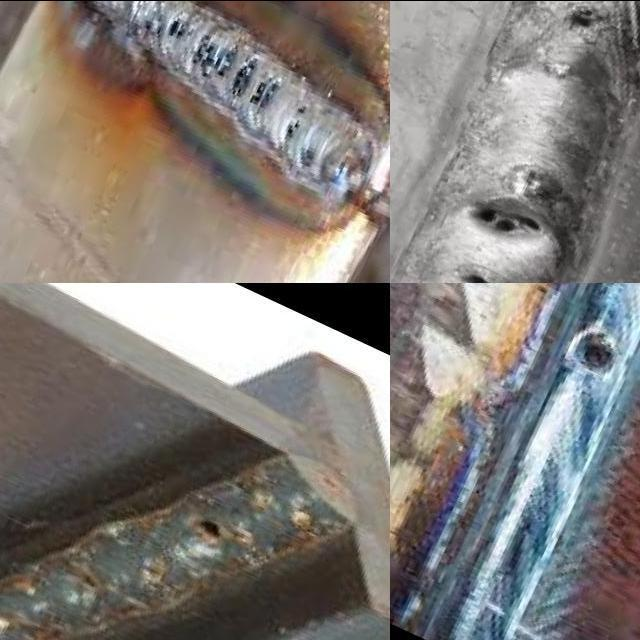defect: (464, 200, 552, 241), (188, 28, 248, 87), (565, 327, 630, 380), (224, 53, 262, 103), (559, 0, 605, 34), (245, 71, 283, 110), (437, 264, 499, 282), (280, 106, 309, 142), (193, 514, 229, 541), (165, 10, 192, 42)
